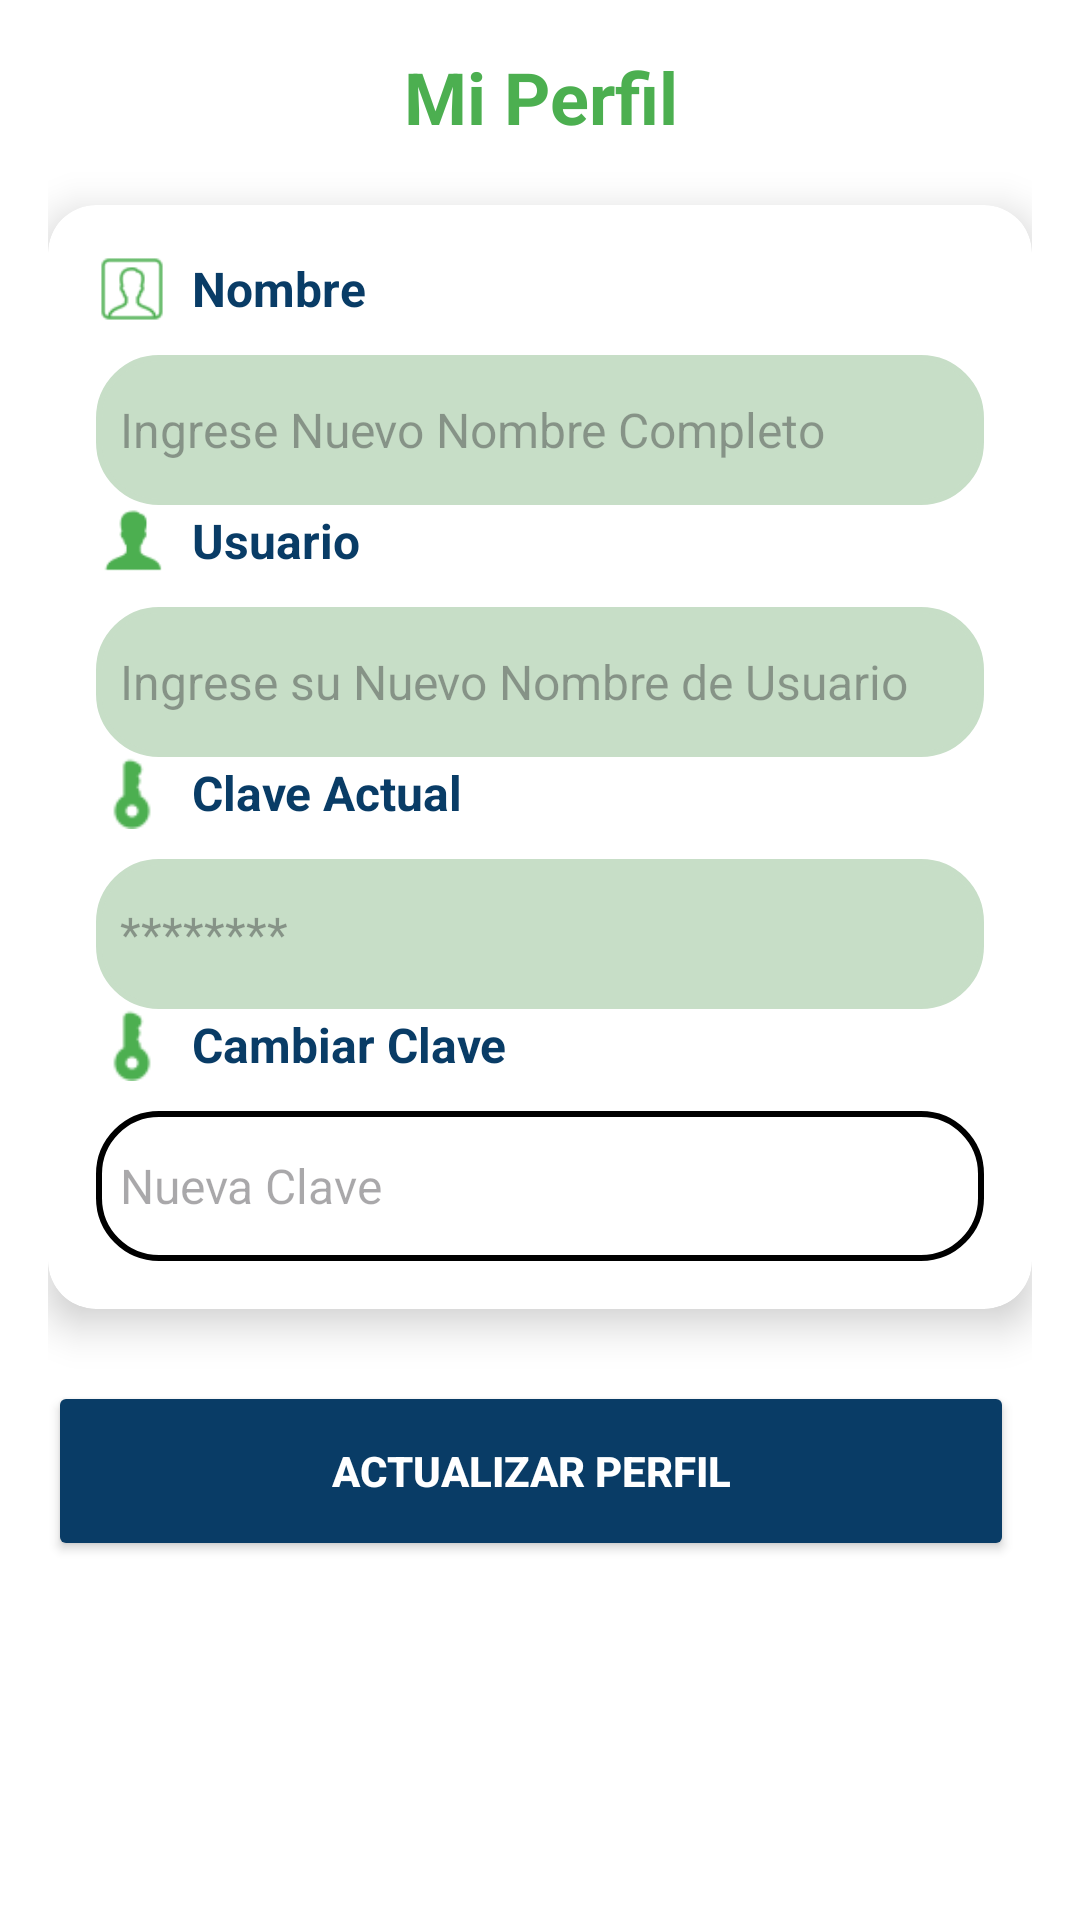

Where to tap for icons on this 1080×1920 app screen, as (x=x, y=y):
llave: (x=132, y=794), (x=132, y=1046)
